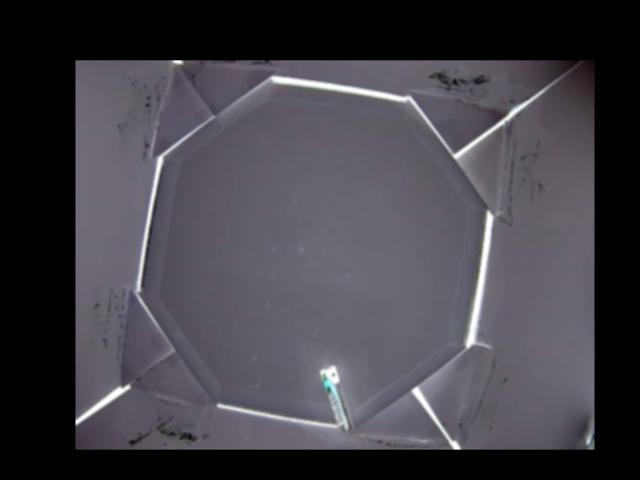Battery: (320, 366, 355, 433)
